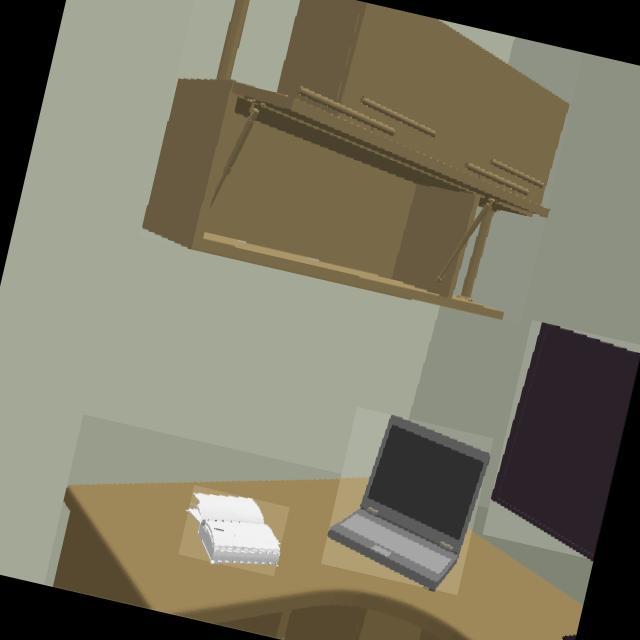book: (188, 494, 279, 566)
cabinet: (142, 0, 567, 317)
laptop: (327, 415, 489, 589)
monitor: (491, 322, 640, 560)
table: (54, 478, 582, 640)
